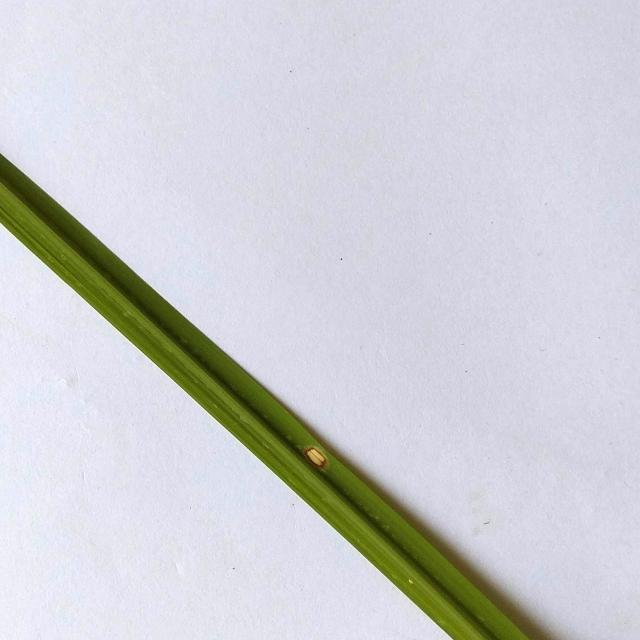Blast: (304, 450, 331, 470)
